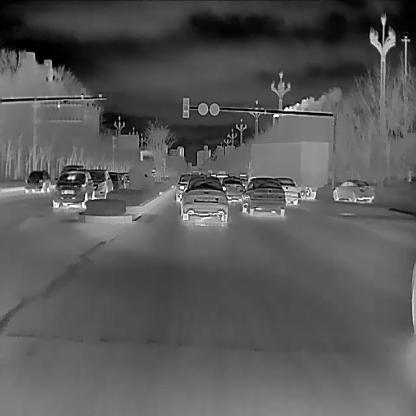car: (180, 176, 228, 224), (241, 176, 284, 216), (52, 172, 94, 209), (333, 180, 374, 202), (174, 175, 200, 203), (88, 169, 112, 199), (274, 176, 298, 205), (221, 174, 243, 202), (25, 170, 50, 192), (105, 170, 122, 192)
truck: (246, 141, 326, 199), (140, 149, 165, 180)
